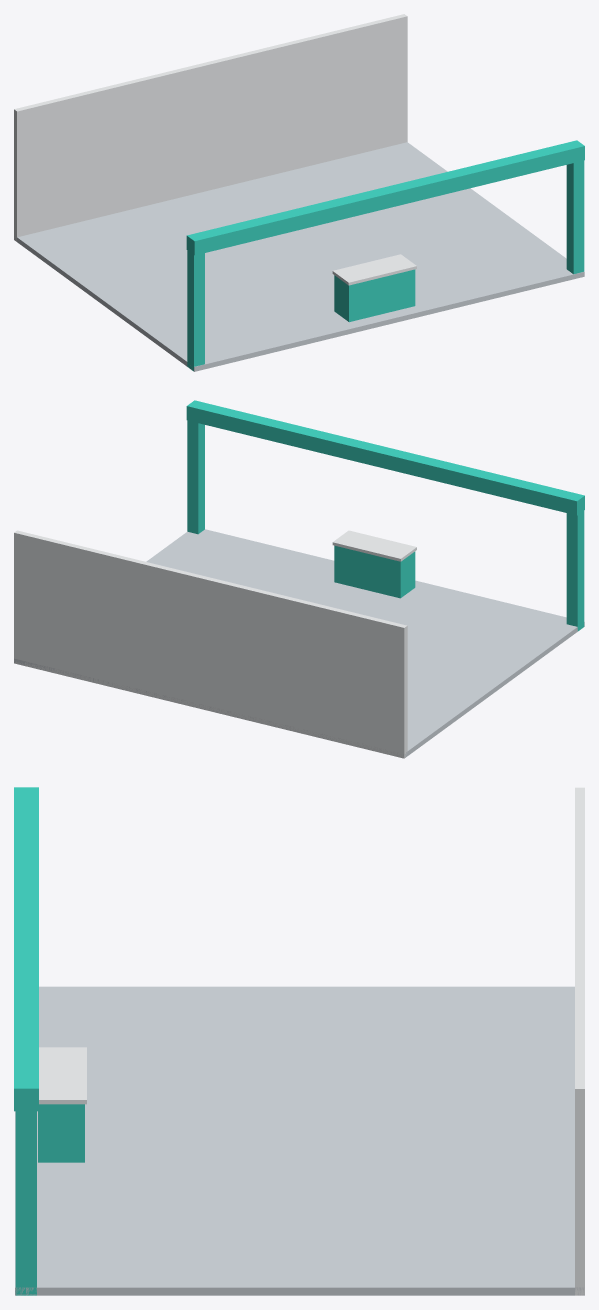
The picture shows the model from 3 angles, top to bottom: view 1: azimuth 30°, elevation 25°; view 2: azimuth 150°, elevation 25°; view 3: azimuth 270°, elevation 25°; orthographic projection. The views are drawn at different scales.
Parts seen in each view (by area): view 1: Exhibition Booth Concept; view 2: Exhibition Booth Concept; view 3: Exhibition Booth Concept.
Part boxes in pixels (x1,y1,x2,y2): Exhibition Booth Concept: (14,14,584,371); Exhibition Booth Concept: (14,400,584,758); Exhibition Booth Concept: (14,787,584,1295).
Size of the model in its own units: 10 by 3.2 by 8.01.
